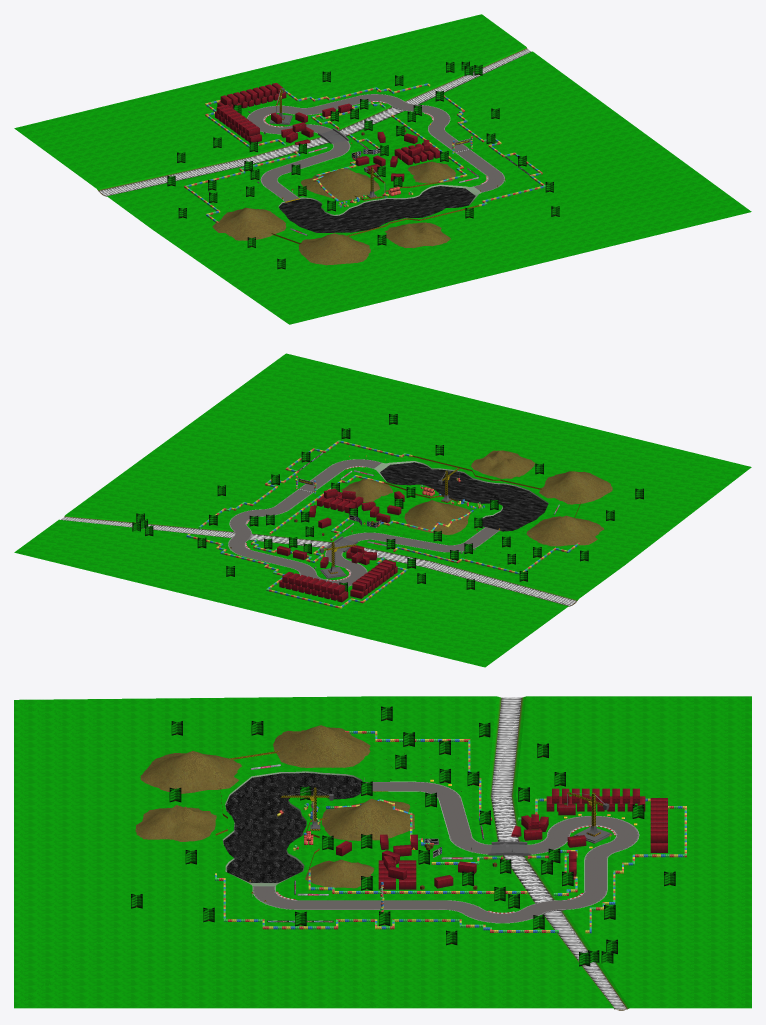
3 renders of one model, top to bottom at view 1: azimuth 30°, elevation 25°; view 2: azimuth 150°, elevation 25°; view 3: azimuth 270°, elevation 25°, orthographic. The views are drawn at different scales.
Parts seen in each view (by area): view 1: UMC_grass.001, UMC_mud.001, UMC_road.001, UMC_water.001, UMC_pa_ci01.001, UMC_pa_cn02.001, UMC_blocks.001, UMC_waterfall.001, UMC_river.001, UMC_pa_ci02.001; view 2: UMC_grass.001, UMC_mud.001, UMC_road.001, UMC_pa_ci01.001, UMC_water.001, UMC_pa_cn02.001, UMC_blocks.001, UMC_waterfall.001, UMC_river.001, UMC_pa_ci02.001; view 3: UMC_grass.001, UMC_mud.001, UMC_road.001, UMC_water.001, UMC_pa_cn02.001, UMC_pa_ci01.001, UMC_waterfall.001, UMC_blocks.001, UMC_river.001, UMC_concrete.001, UMC_sand.001.
Part boxes in pixels (x1,y1,x2,y2): UMC_grass.001: (14, 14, 751, 324); UMC_mud.001: (212, 161, 455, 265); UMC_road.001: (247, 94, 504, 201); UMC_water.001: (279, 186, 475, 232); UMC_pa_ci01.001: (215, 83, 470, 202); UMC_pa_cn02.001: (167, 61, 559, 269); UMC_blocks.001: (184, 83, 545, 222); UMC_waterfall.001: (98, 48, 531, 196); UMC_river.001: (97, 47, 530, 196); UMC_pa_ci02.001: (271, 117, 478, 244); UMC_grass.001: (14, 353, 751, 667); UMC_mud.001: (341, 450, 612, 546); UMC_road.001: (228, 459, 499, 586); UMC_pa_ci01.001: (277, 476, 475, 602); UMC_water.001: (380, 462, 548, 531); UMC_pa_cn02.001: (132, 414, 643, 591); UMC_blocks.001: (186, 440, 579, 608); UMC_waterfall.001: (60, 517, 576, 606); UMC_river.001: (64, 515, 578, 606); UMC_pa_ci02.001: (230, 455, 581, 573); UMC_grass.001: (14, 696, 751, 1008); UMC_mud.001: (135, 725, 414, 888); UMC_road.001: (252, 781, 639, 923); UMC_water.001: (223, 772, 361, 882); UMC_pa_cn02.001: (131, 706, 675, 966); UMC_pa_ci01.001: (310, 788, 667, 889); UMC_waterfall.001: (491, 697, 626, 1009); UMC_blocks.001: (215, 731, 686, 933); UMC_river.001: (487, 696, 629, 1010); UMC_concrete.001: (488, 826, 612, 914); UMC_sand.001: (222, 771, 362, 886).
Size of the model in its own units: 102100 by 7844 by 102121.
Materials: 18 (18 with a texture image).
